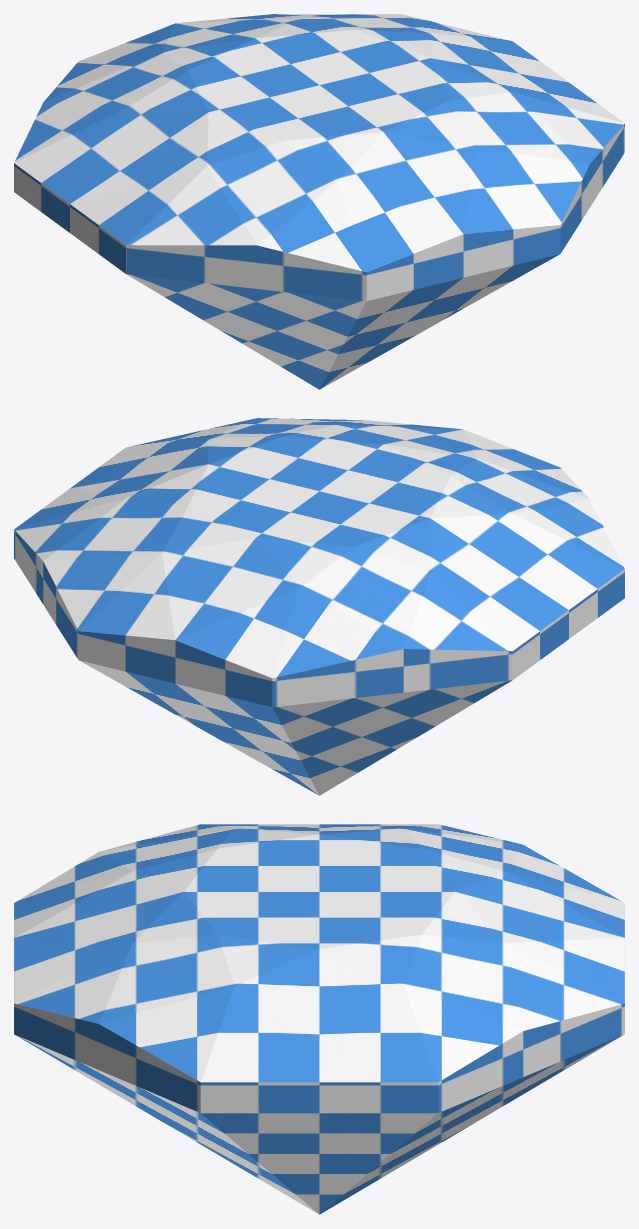
The model's file is OctagonCutPointy.FBX.
The picture shows the model from 3 angles, top to bottom: view 1: azimuth 30°, elevation 25°; view 2: azimuth 150°, elevation 25°; view 3: azimuth 270°, elevation 25°; orthographic projection. The views are drawn at different scales.
Parts seen in each view (by area): view 1: OctagonCutPointy; view 2: OctagonCutPointy; view 3: OctagonCutPointy.
Part boxes in pixels (x1,y1,x2,y2): OctagonCutPointy: (14, 14, 624, 389); OctagonCutPointy: (14, 418, 624, 795); OctagonCutPointy: (14, 824, 624, 1214).
Bounding box in the file's own units: 1.14 × 0.6668 × 1.14.
